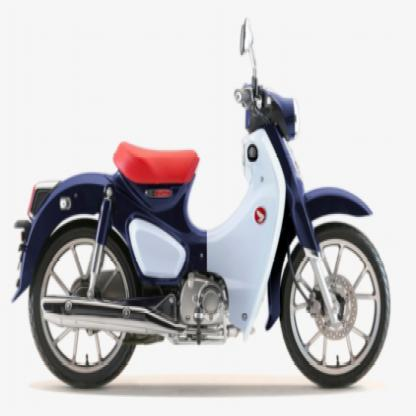Motorcycle: (6, 15, 394, 391)
